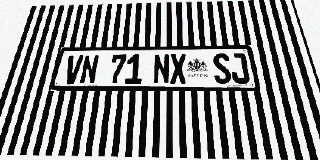1: (125, 54, 143, 84)
7: (108, 54, 127, 84)
J: (229, 53, 250, 84)
N: (79, 55, 99, 84), (153, 54, 170, 84)
S: (212, 53, 232, 84)
V: (63, 55, 84, 84)
X: (170, 54, 187, 84)
